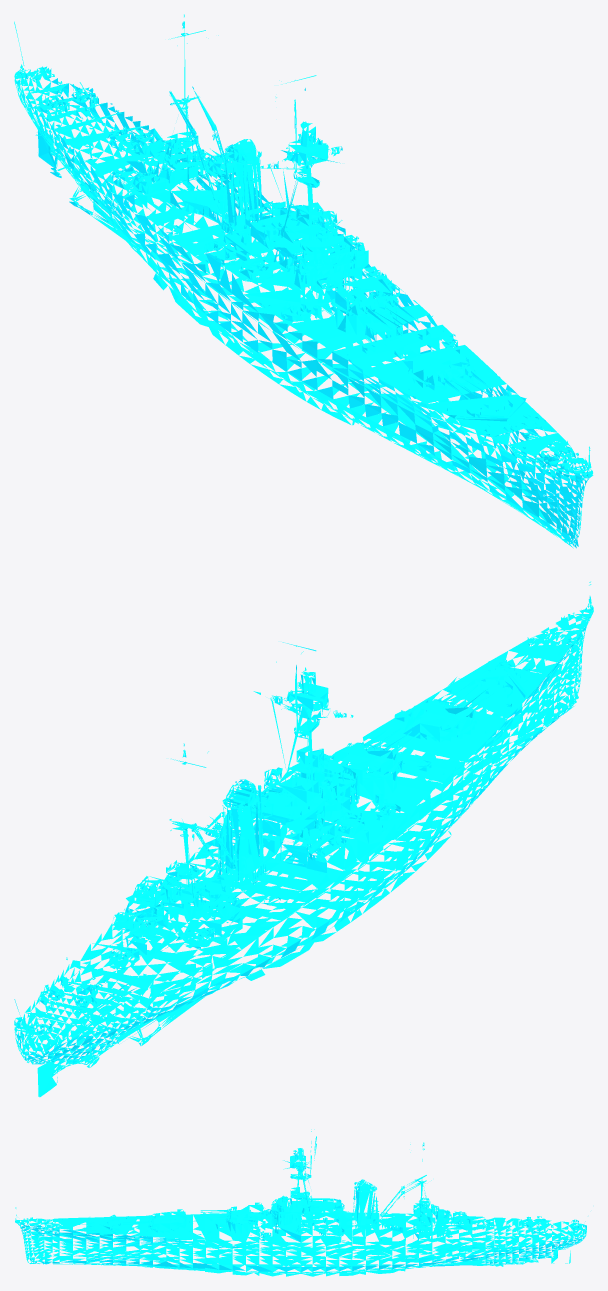
File: Brest.glb
3 views of the same model, one above another, from view 1: azimuth 30°, elevation 25°; view 2: azimuth 150°, elevation 25°; view 3: azimuth 270°, elevation 25° (orthographic). The views are drawn at different scales.
Bounding box in the file's own units: 1.83 × 3.65 × 14.39.
